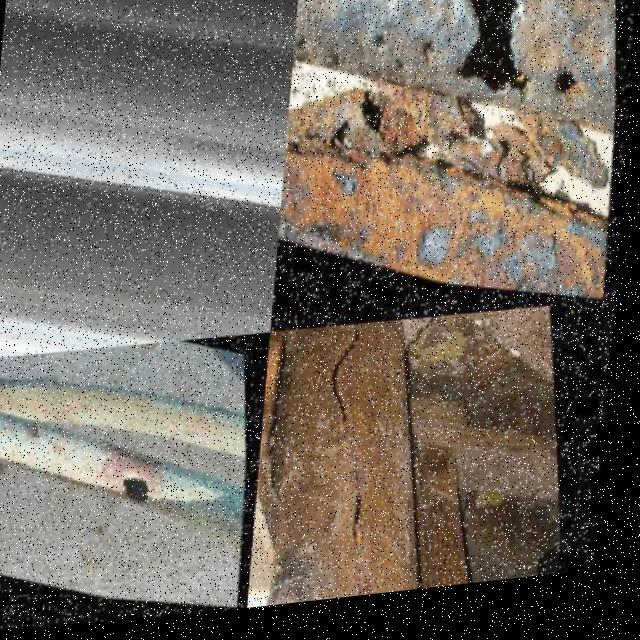crack: (348, 334, 396, 606)
hole: (449, 1, 562, 136), (551, 65, 608, 134), (126, 477, 167, 521), (373, 41, 400, 82), (423, 49, 449, 89), (297, 51, 327, 85), (396, 68, 422, 102), (296, 31, 302, 62)
